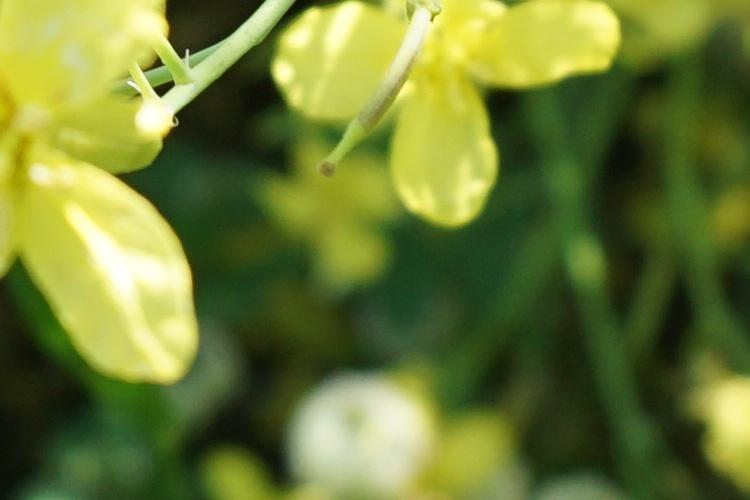pod: (328, 17, 451, 218)
yellow: (4, 1, 213, 377), (287, 22, 640, 211)
